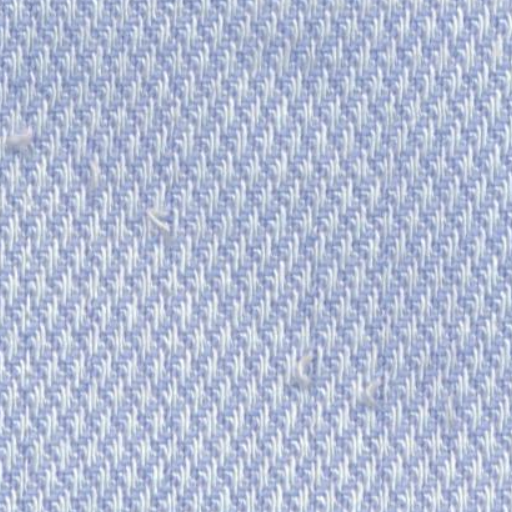DuanSha: (284, 334, 397, 415), (132, 195, 194, 258), (4, 114, 46, 167)
